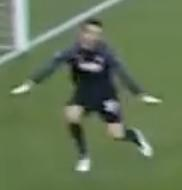goalkeeper: (9, 13, 182, 190)
